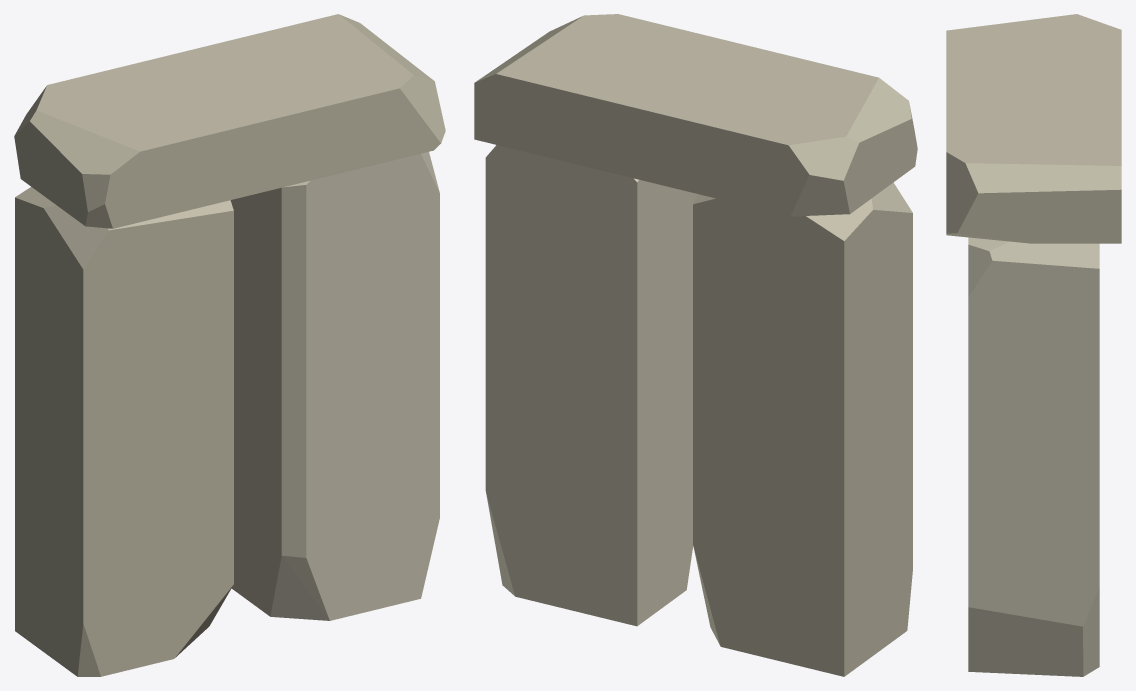
The model's file is Stonehenge_02.fbx.
3 views of the same model, side by side, from view 1: azimuth 30°, elevation 25°; view 2: azimuth 150°, elevation 25°; view 3: azimuth 270°, elevation 25° (orthographic). The views are drawn at different scales.
Visible parts, largest first — view 1: Stonehenge_02; view 2: Stonehenge_02; view 3: Stonehenge_02.
Part boxes in pixels (x1,y1,x2,y2): Stonehenge_02: (14,14,445,676); Stonehenge_02: (474,14,917,676); Stonehenge_02: (946,14,1121,676).
Size of the model in its own units: 450 by 635 by 200.
